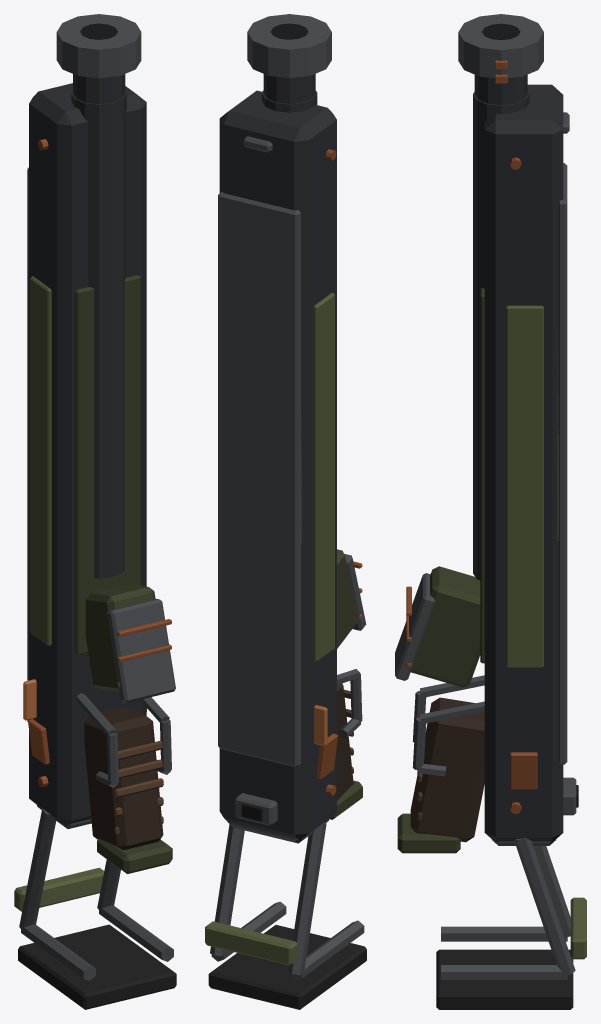
File: weapon_assault_rifle.fbx
The picture shows the model from 3 angles, left to right: view 1: azimuth 30°, elevation 25°; view 2: azimuth 150°, elevation 25°; view 3: azimuth 270°, elevation 25°; orthographic projection.
Visible parts, largest first — view 1: weapon_assault_rifle; view 2: weapon_assault_rifle; view 3: weapon_assault_rifle.
Part boxes in pixels (x1,y1,x2,y2): weapon_assault_rifle: [14, 14, 176, 1009]; weapon_assault_rifle: [205, 14, 366, 1009]; weapon_assault_rifle: [395, 14, 586, 1009].
Bounding box in the file's own units: 0.1411 × 1.16 × 0.2104.
